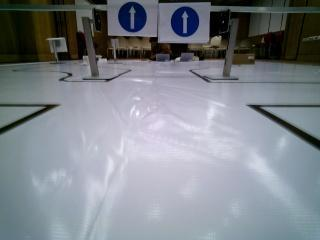straight: (107, 0, 158, 38), (161, 0, 209, 40)
